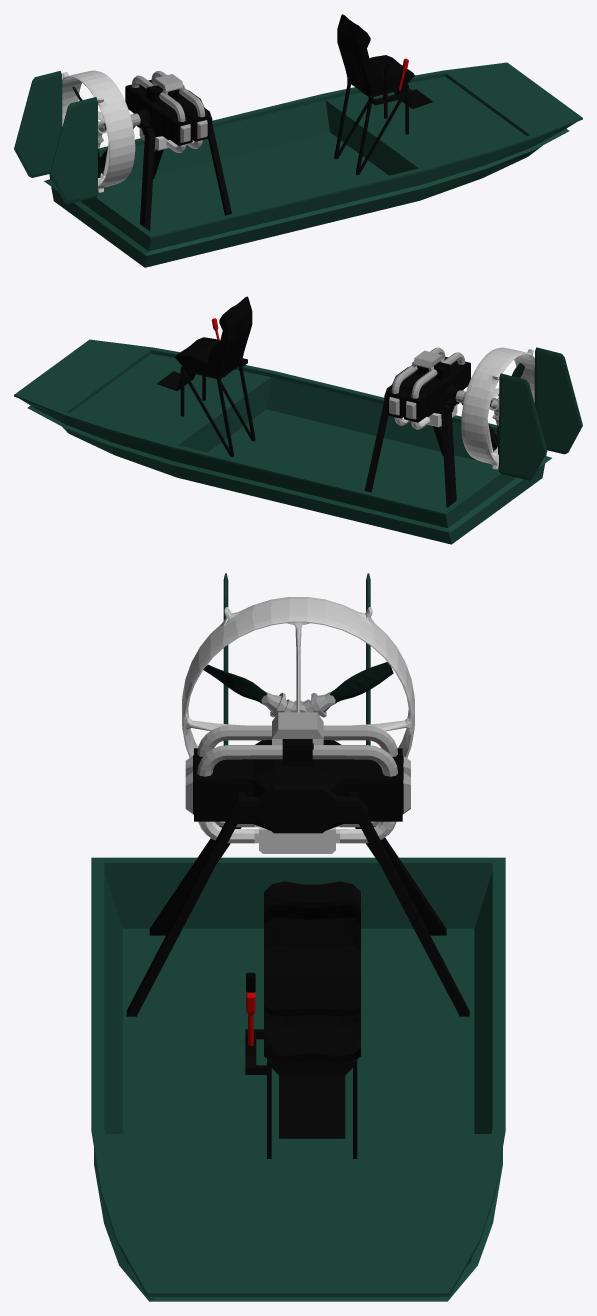
File: airboat.obj
The picture shows the model from 3 angles, top to bottom: view 1: azimuth 30°, elevation 25°; view 2: azimuth 150°, elevation 25°; view 3: azimuth 270°, elevation 25°; orthographic projection. The views are drawn at different scales.
Visible parts, largest first — view 1: boat, rudder, shroud, seat, emounts, stand, engine, intakes, cylinders, exhaust, heads; view 2: boat, rudder, shroud, seat, emounts, stand, engine, intakes, cylinders, exhaust, heads; view 3: boat, seat, emounts, shroud, stand, intakes, engine, cylinders, exhaust, prop, rudder, hub.
Part boxes in pixels (<box>): boat: <box>44,62,582,267</box>; rudder: <box>14,71,97,203</box>; shroud: <box>62,70,135,192</box>; seat: <box>337,14,414,95</box>; emounts: <box>100,90,231,231</box>; stand: <box>334,78,432,174</box>; engine: <box>134,85,196,139</box>; intakes: <box>131,71,205,121</box>; cylinders: <box>125,79,209,145</box>; exhaust: <box>133,113,202,152</box>; heads: <box>180,120,207,142</box>; boat: <box>14,339,551,544</box>; rudder: <box>499,347,582,480</box>; shroud: <box>461,347,534,469</box>; seat: <box>175,296,252,377</box>; emounts: <box>364,367,498,507</box>; stand: <box>157,358,255,456</box>; engine: <box>399,362,462,416</box>; intakes: <box>391,347,464,398</box>; cylinders: <box>387,356,470,422</box>; exhaust: <box>394,389,463,429</box>; heads: <box>389,397,416,419</box>; boat: <box>91,857,505,1301</box>; seat: <box>264,881,360,1062</box>; emounts: <box>126,784,469,1016</box>; shroud: <box>182,597,414,757</box>; stand: <box>245,1029,357,1158</box>; intakes: <box>197,712,397,776</box>; engine: <box>230,739,366,830</box>; cylinders: <box>193,748,403,821</box>; exhaust: <box>198,821,396,853</box>; prop: <box>203,662,393,703</box>; rudder: <box>223,573,370,745</box>; hub: <box>261,692,335,717</box>.
Bounding box in the file's own units: 16.23 × 4.8 × 5.68.
